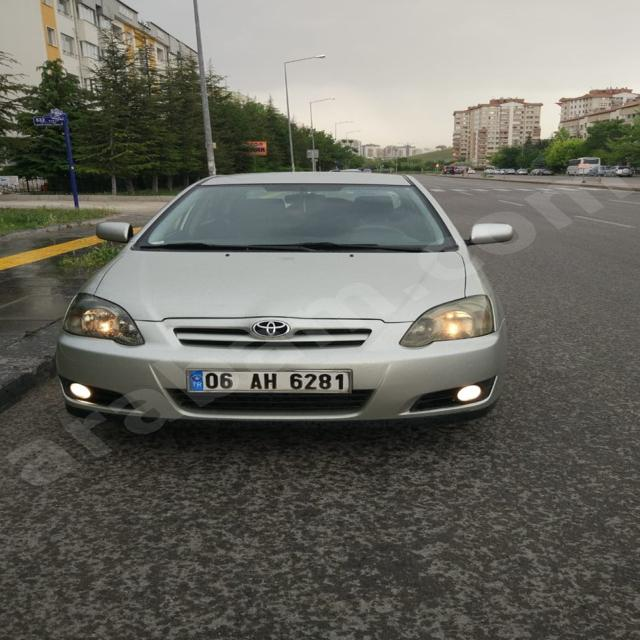license_plate: (189, 371, 350, 392)
